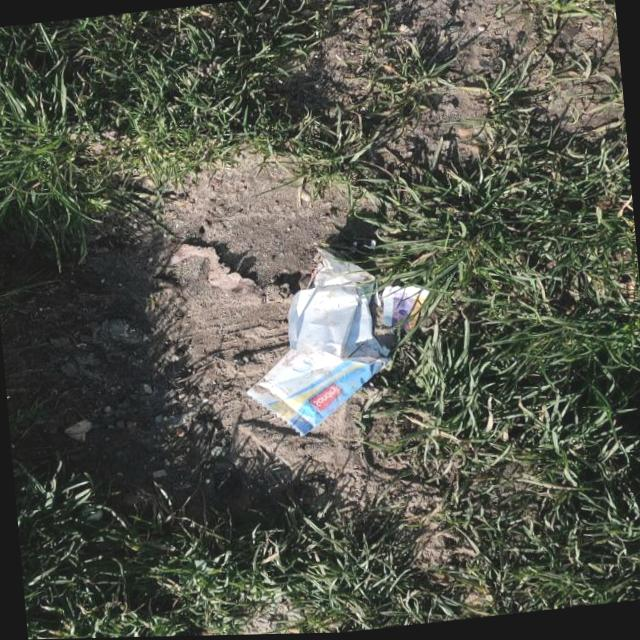Plastic: (230, 233, 440, 445)
